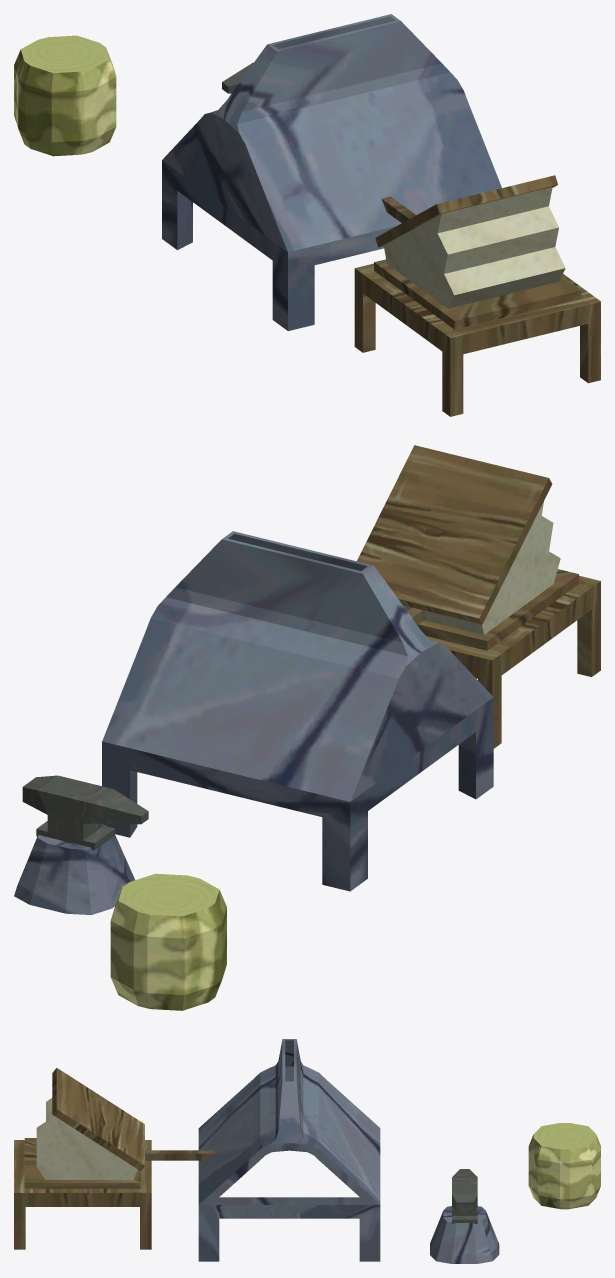
The model's file is smith_bench.glb.
3 renders of one model, top to bottom at view 1: azimuth 30°, elevation 25°; view 2: azimuth 150°, elevation 25°; view 3: azimuth 270°, elevation 25°, orthographic. The views are drawn at different scales.
Visible parts, largest first — view 1: chimney1, accordion, anvil; view 2: chimney1, accordion, anvil; view 3: chimney1, accordion, anvil.
Part boxes in pixels (<box>): chimney1: <box>162,14,501,330</box>; accordion: <box>354,175,600,416</box>; anvil: <box>14,35,253,156</box>; chimney1: <box>102,531,493,891</box>; accordion: <box>357,445,600,748</box>; anvil: <box>14,775,226,1010</box>; chimney1: <box>198,1039,380,1261</box>; accordion: <box>14,1068,214,1249</box>; anvil: <box>430,1123,600,1263</box>.
Size of the model in its own units: 1.58 by 1.43 by 4.69.
Materials: 1 (1 with a texture image).
